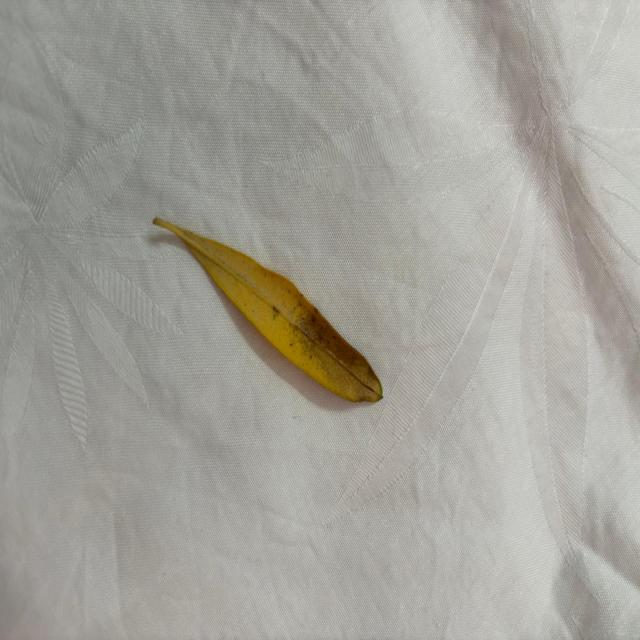Peacock Eye: (154, 219, 382, 402)
